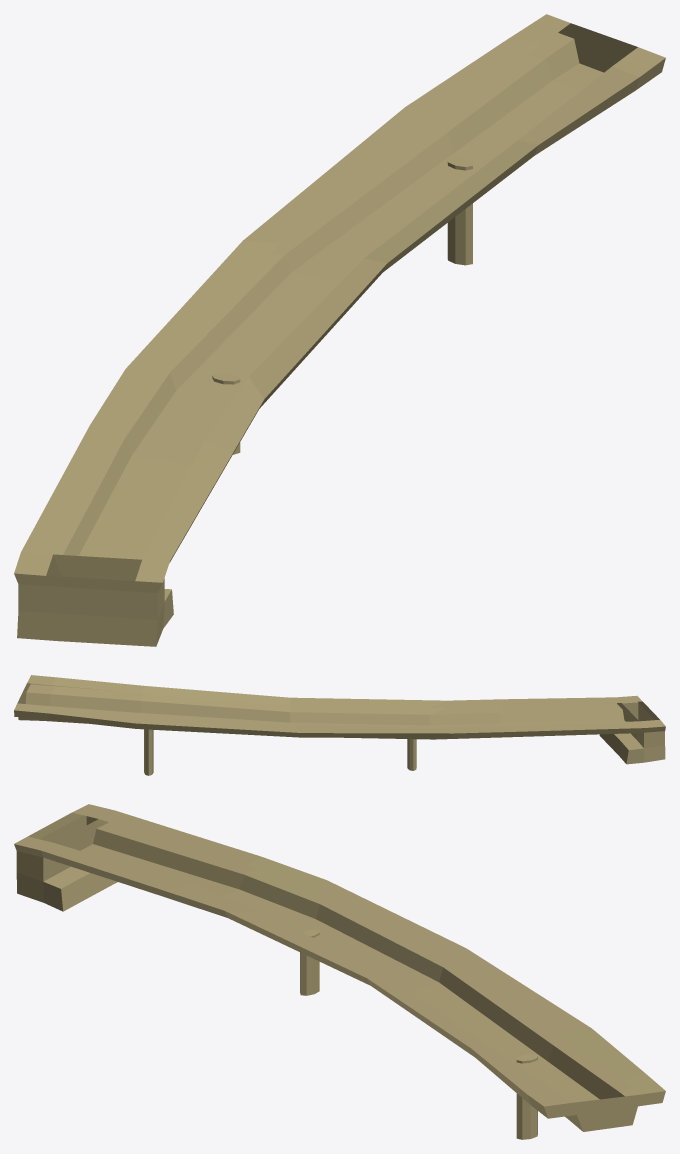
Rendered from bridge_holder.fbx.
3 views of the same model, one above another, from view 1: azimuth 30°, elevation 25°; view 2: azimuth 150°, elevation 25°; view 3: azimuth 270°, elevation 25° (orthographic). The views are drawn at different scales.
Visible parts, largest first — view 1: bridge_holder; view 2: bridge_holder; view 3: bridge_holder.
Boxes of the visible parts, <box> form: bridge_holder: <box>14,14,665,646</box>; bridge_holder: <box>14,675,665,775</box>; bridge_holder: <box>14,804,665,1139</box>.
Size of the model in its own units: 4697 by 6231 by 910.
